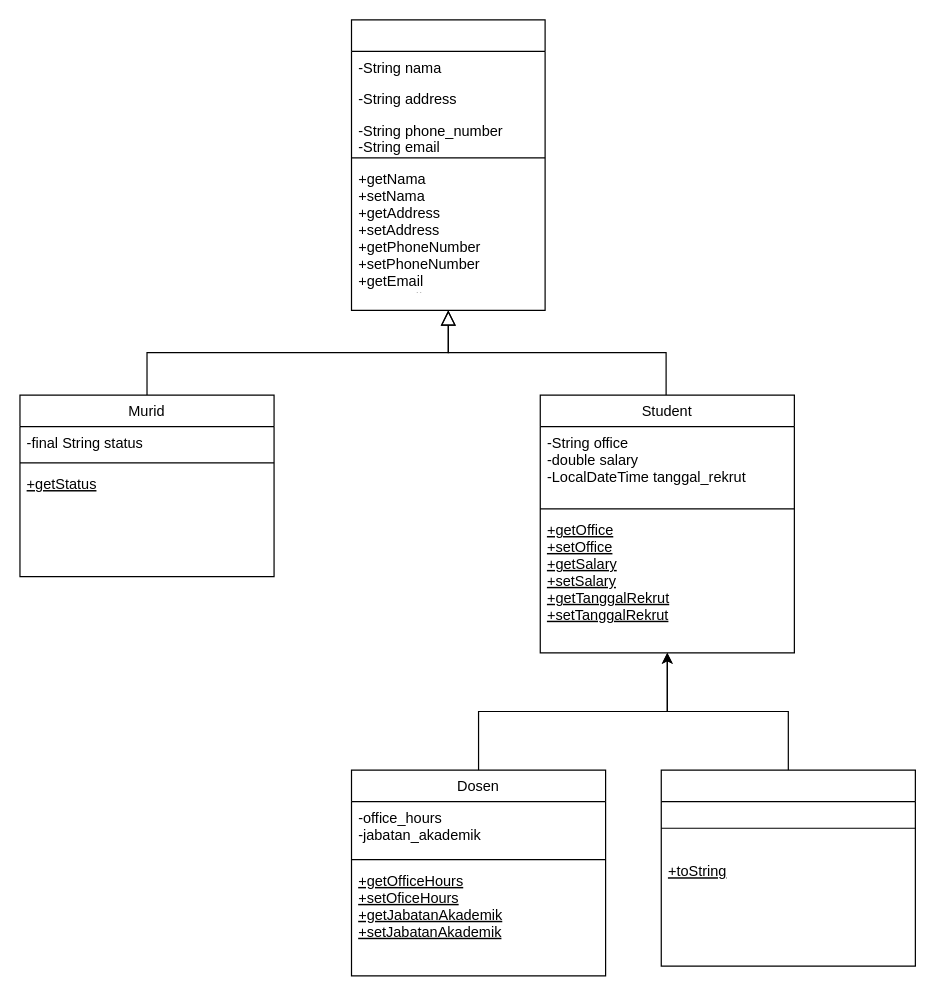
Image size: 935x996. Some labels were removed from this diagram. The shapes that lost their labels are listed below. From the top down, each one's box as (x1, y1, x2, y2) in pixels, then its label:
(350, 19, 545, 310): Persona
(660, 769, 915, 966): Staff
